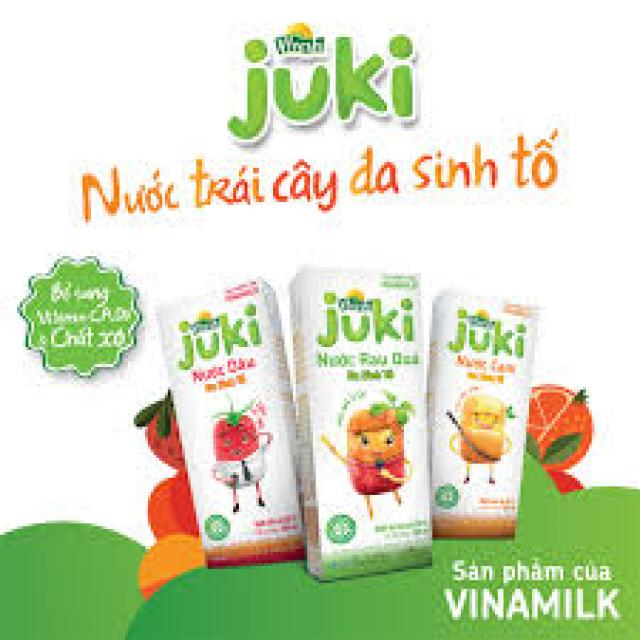non_white_jug: (279, 228, 455, 580), (148, 284, 313, 569), (422, 282, 522, 554)
